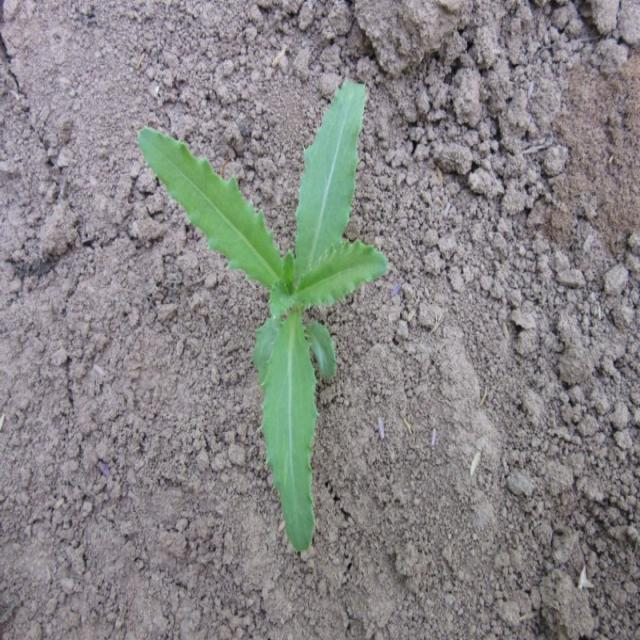cs: (135, 77, 391, 557)
